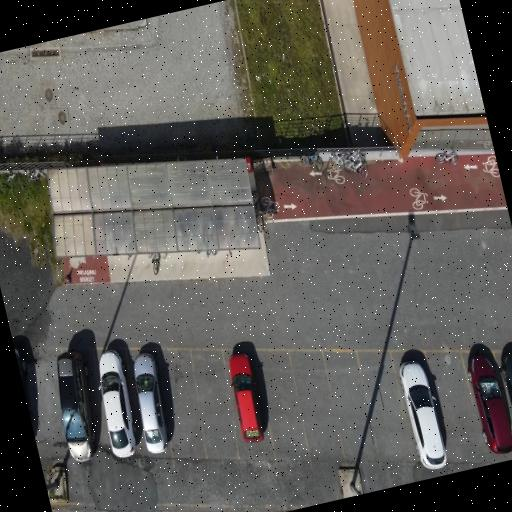harvester: (345, 151, 368, 178), (253, 191, 264, 232), (301, 154, 323, 171), (261, 197, 278, 218), (330, 151, 352, 167), (436, 150, 458, 166), (327, 165, 345, 184), (149, 253, 161, 274), (29, 169, 44, 180), (7, 173, 16, 182), (207, 250, 218, 257)
person: (400, 361, 447, 469), (468, 356, 511, 453), (58, 352, 95, 461), (99, 351, 136, 457), (134, 353, 167, 453), (229, 354, 264, 442), (14, 348, 27, 403), (502, 353, 511, 402)
